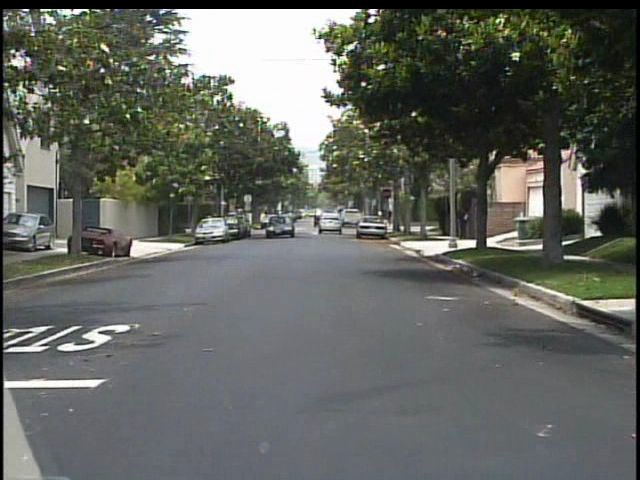person: (456, 198, 474, 243), (202, 207, 216, 233)
